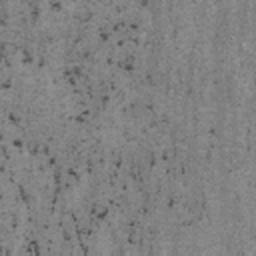Oxide scale of temperature system: (0, 0, 183, 160), (10, 127, 207, 256), (212, 8, 229, 55), (170, 124, 179, 145), (209, 127, 221, 138), (186, 81, 194, 97), (227, 86, 233, 102)
